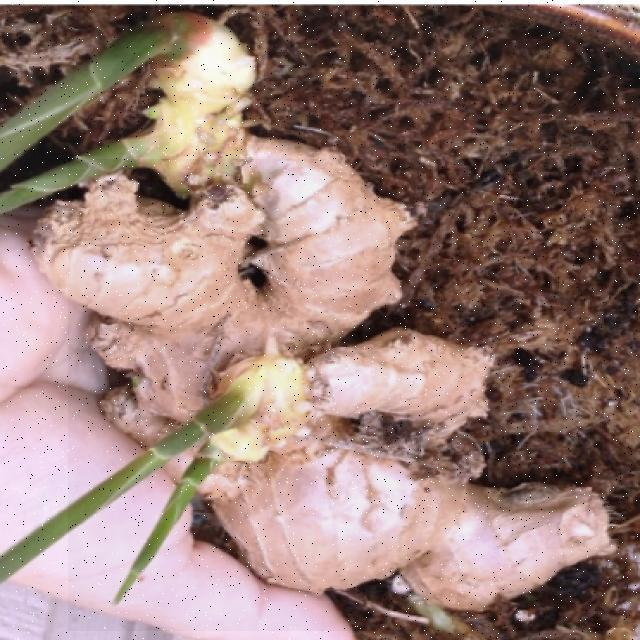ginger: (68, 159, 640, 631)
